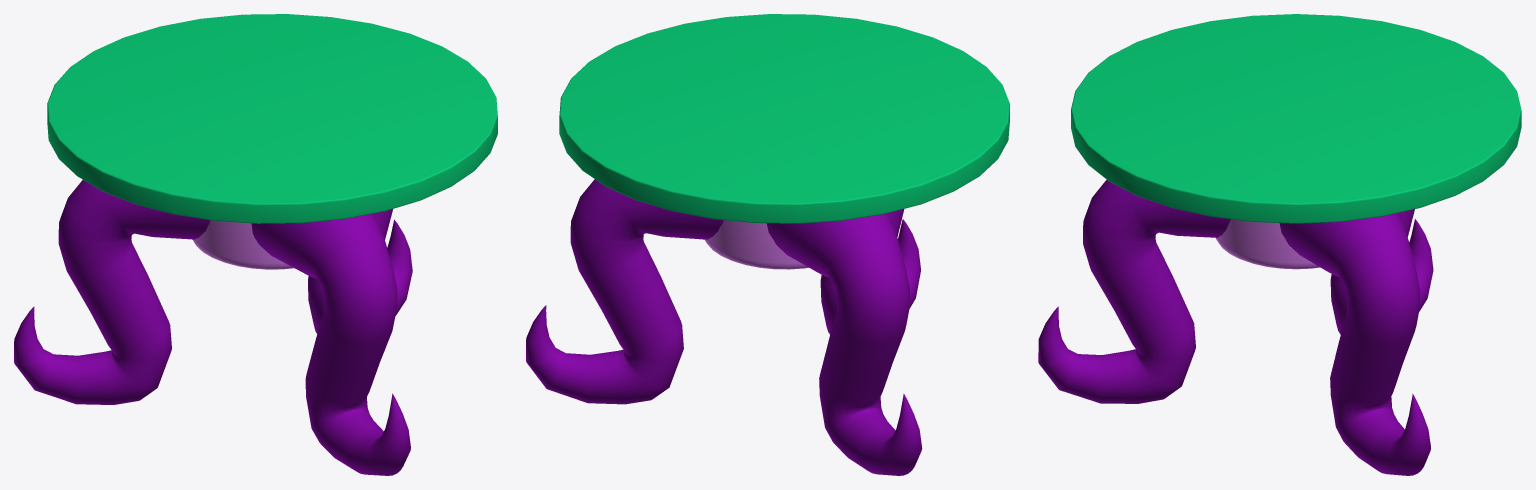
File: umgebung_telefontisch_low.FBX
3 views of the same model, side by side, from view 1: azimuth 30°, elevation 25°; view 2: azimuth 150°, elevation 25°; view 3: azimuth 270°, elevation 25° (orthographic).
Parts seen in each view (by area): view 1: o_tischplatte_low, i_tentakel_low (×2), o_tentakel_low, o_sockel_low; view 2: o_tischplatte_low, i_tentakel_low (×2), o_tentakel_low, o_sockel_low; view 3: o_tischplatte_low, i_tentakel_low (×2), o_sockel_low, o_tentakel_low.
Boxes of the visible parts, bbox=[...] form: o_tischplatte_low: bbox=[47, 14, 497, 223]; i_tentakel_low (×2): bbox=[251, 209, 412, 475]; o_tentakel_low: bbox=[14, 180, 210, 404]; o_sockel_low: bbox=[193, 220, 293, 269]; o_tischplatte_low: bbox=[559, 14, 1009, 223]; i_tentakel_low (×2): bbox=[526, 179, 920, 404]; o_tentakel_low: bbox=[766, 213, 922, 475]; o_sockel_low: bbox=[705, 220, 808, 269]; o_tischplatte_low: bbox=[1071, 14, 1521, 223]; i_tentakel_low (×2): bbox=[1038, 179, 1430, 475]; o_sockel_low: bbox=[1215, 219, 1319, 269]; o_tentakel_low: bbox=[1330, 209, 1433, 334].
Bounding box in the file's own units: 210 × 150 × 224.
